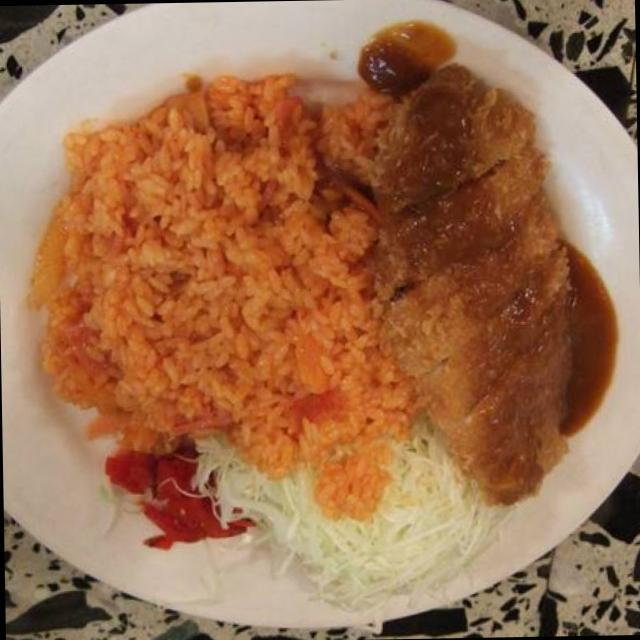Rice: (31, 76, 402, 446)
